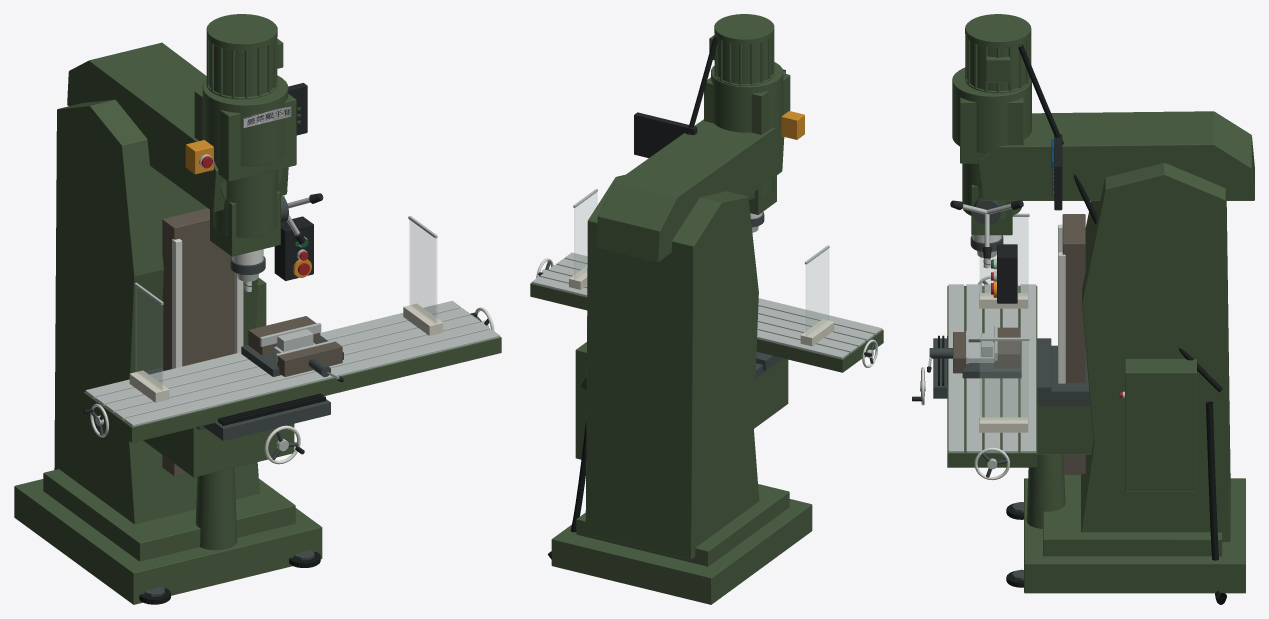
Rendered from turret.glb.
The picture shows the model from 3 angles, left to right: view 1: azimuth 30°, elevation 25°; view 2: azimuth 150°, elevation 25°; view 3: azimuth 270°, elevation 25°; orthographic projection. The views are drawn at different scales.
Parts seen in each view (by area): view 1: TURRET_01_Body, TURRET_01_Table_Mesh, TURRET_01_Saddle_Mesh, TURRET_01_Vise, TURRET_01_ViseJaw_Mesh, TURRET_01_Quill_Mesh, TURRET_01_YWheel_Mesh, TURRET_01_QuillLever_Mesh; view 2: TURRET_01_Body, TURRET_01_Table_Mesh; view 3: TURRET_01_Body, TURRET_01_Table_Mesh, TURRET_01_Vise, TURRET_01_Saddle_Mesh, TURRET_01_QuillLever_Mesh, TURRET_01_ViseJaw_Mesh, TURRET_01_XWheel_Mesh.
Part boxes in pixels (x1,y1,x2,y2): TURRET_01_Body: [14, 14, 322, 604]; TURRET_01_Table_Mesh: [83, 216, 501, 442]; TURRET_01_Saddle_Mesh: [203, 393, 330, 440]; TURRET_01_Vise: [241, 316, 343, 376]; TURRET_01_ViseJaw_Mesh: [276, 339, 343, 382]; TURRET_01_Quill_Mesh: [230, 249, 265, 274]; TURRET_01_YWheel_Mesh: [264, 425, 304, 464]; TURRET_01_QuillLever_Mesh: [281, 193, 323, 243]; TURRET_01_Body: [548, 14, 812, 604]; TURRET_01_Table_Mesh: [530, 189, 883, 372]; TURRET_01_Body: [952, 14, 1254, 604]; TURRET_01_Table_Mesh: [947, 213, 1037, 467]; TURRET_01_Vise: [962, 325, 1021, 378]; TURRET_01_Saddle_Mesh: [933, 335, 1051, 398]; TURRET_01_QuillLever_Mesh: [950, 198, 1023, 258]; TURRET_01_ViseJaw_Mesh: [927, 330, 968, 373]; TURRET_01_XWheel_Mesh: [974, 447, 1009, 480].
Bounding box in the file's own units: 1.79 × 2.49 × 1.45.
Materials: 14 (1 with a texture image).
